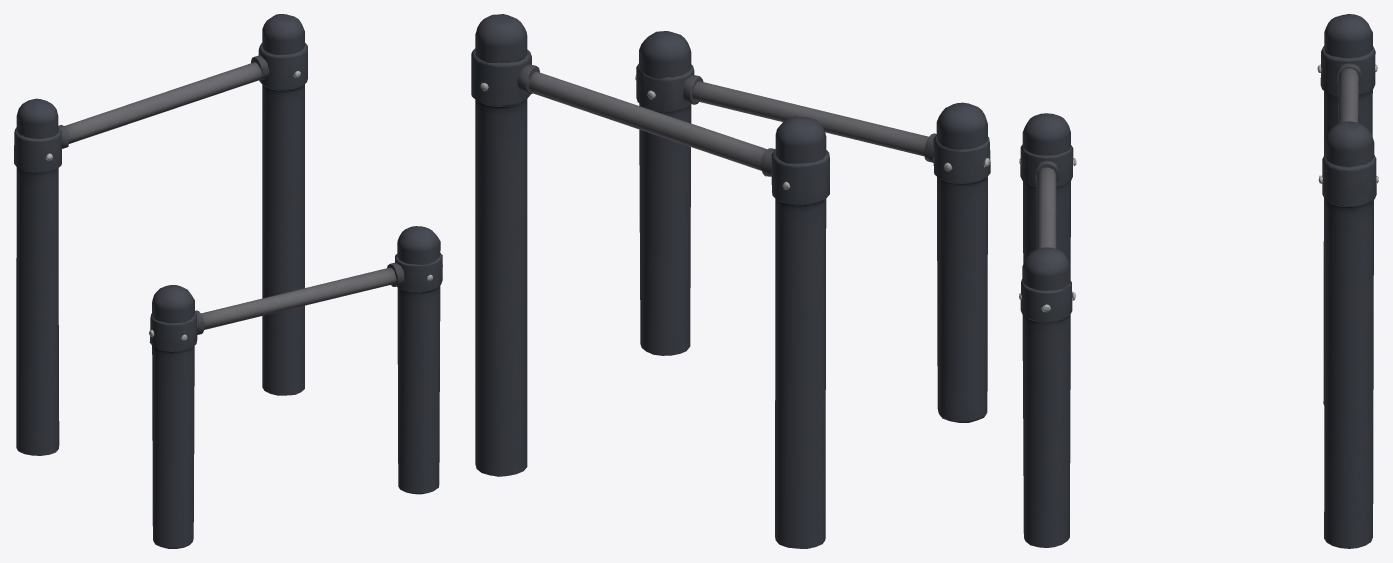
The model's file is pullup-bars.glb.
3 views of the same model, side by side, from view 1: azimuth 30°, elevation 25°; view 2: azimuth 150°, elevation 25°; view 3: azimuth 270°, elevation 25° (orthographic). The views are drawn at different scales.
Parts seen in each view (by area): view 1: geometry_0; view 2: geometry_0; view 3: geometry_0.
Part boxes in pixels (x1,y1,x2,y2): geometry_0: (14,14,442,548); geometry_0: (471,14,990,548); geometry_0: (1019,14,1378,548).
Size of the model in its own units: 0.8283 by 1 by 0.7907.
1 material, 1 textured.
